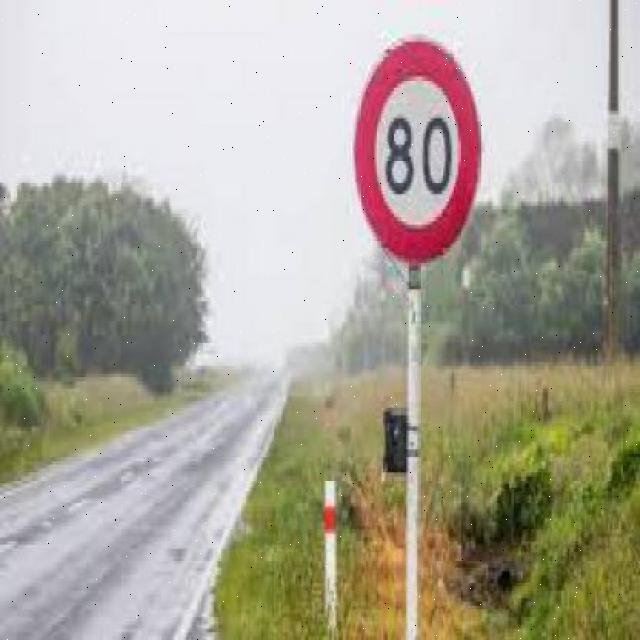speed limit 80: (354, 34, 481, 262)
